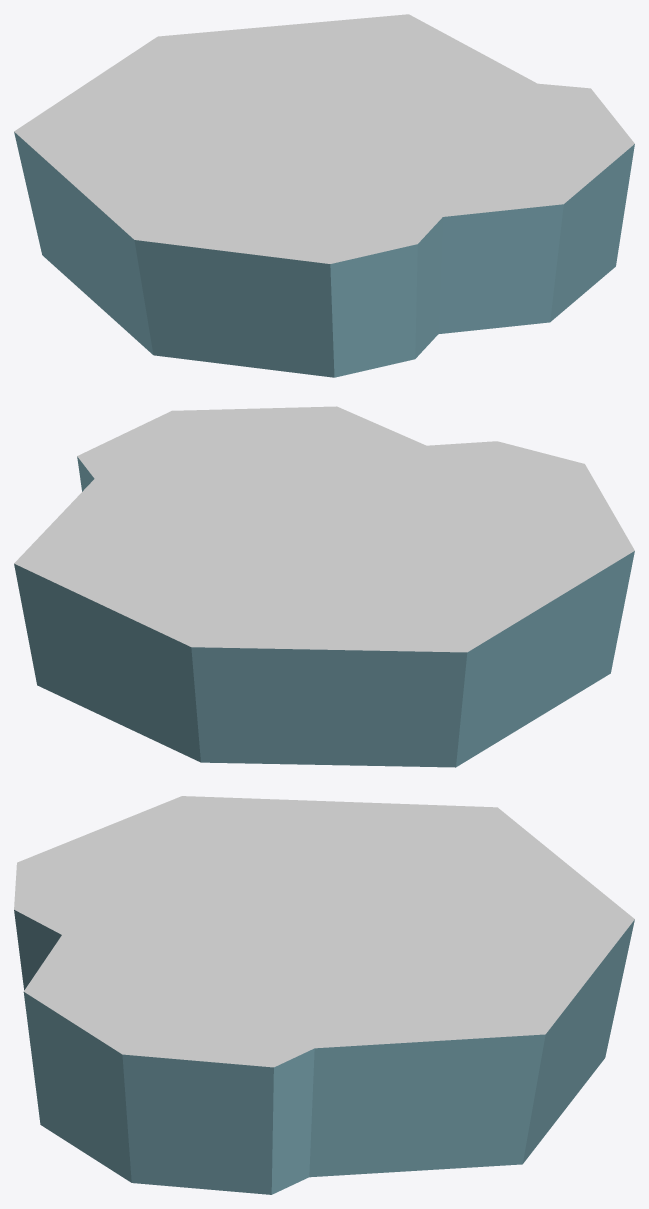
Rendered from floe_01.fbx.
The picture shows the model from 3 angles, top to bottom: view 1: azimuth 30°, elevation 25°; view 2: azimuth 150°, elevation 25°; view 3: azimuth 270°, elevation 25°; orthographic projection. The views are drawn at different scales.
Parts seen in each view (by area): view 1: floe_01; view 2: floe_01; view 3: floe_01.
Part boxes in pixels (x1,y1,x2,y2): floe_01: (14,14,634,377); floe_01: (14,406,634,767); floe_01: (14,796,634,1194).
Size of the model in its own units: 227 by 53.15 by 219.
